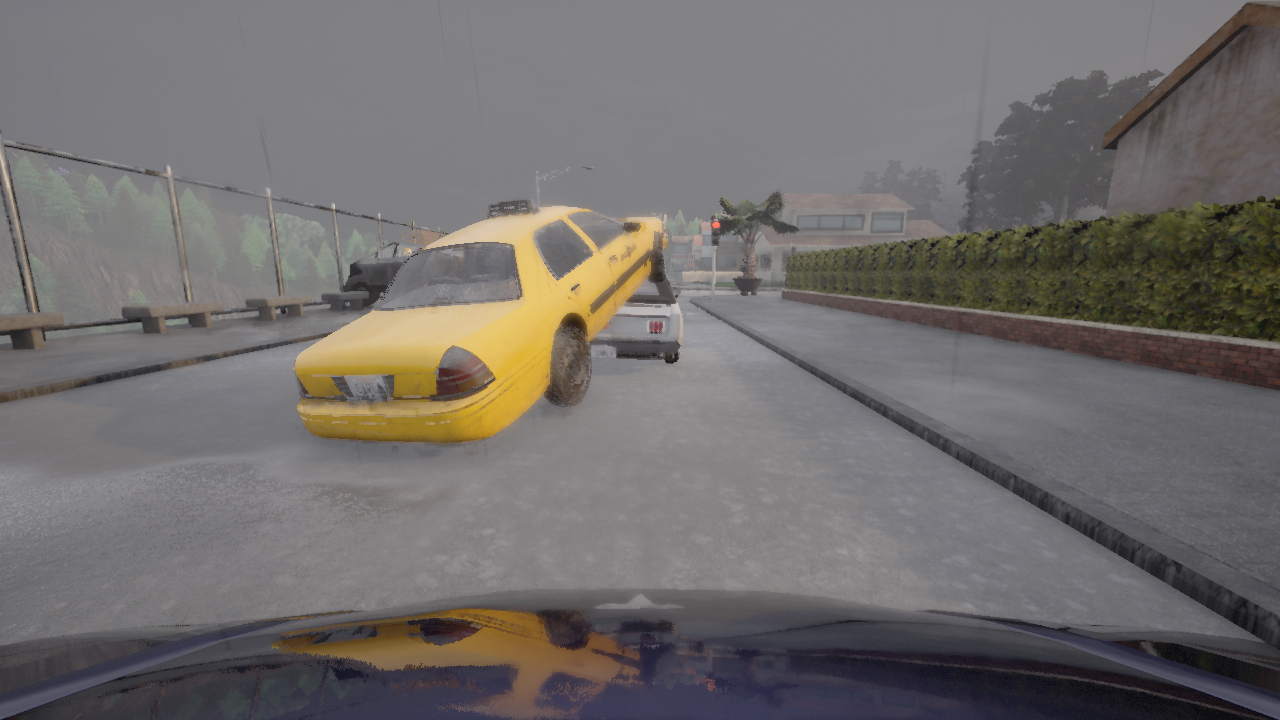cyclist: (0, 588, 1279, 719), (293, 198, 666, 442), (589, 276, 683, 362), (343, 242, 429, 306)
